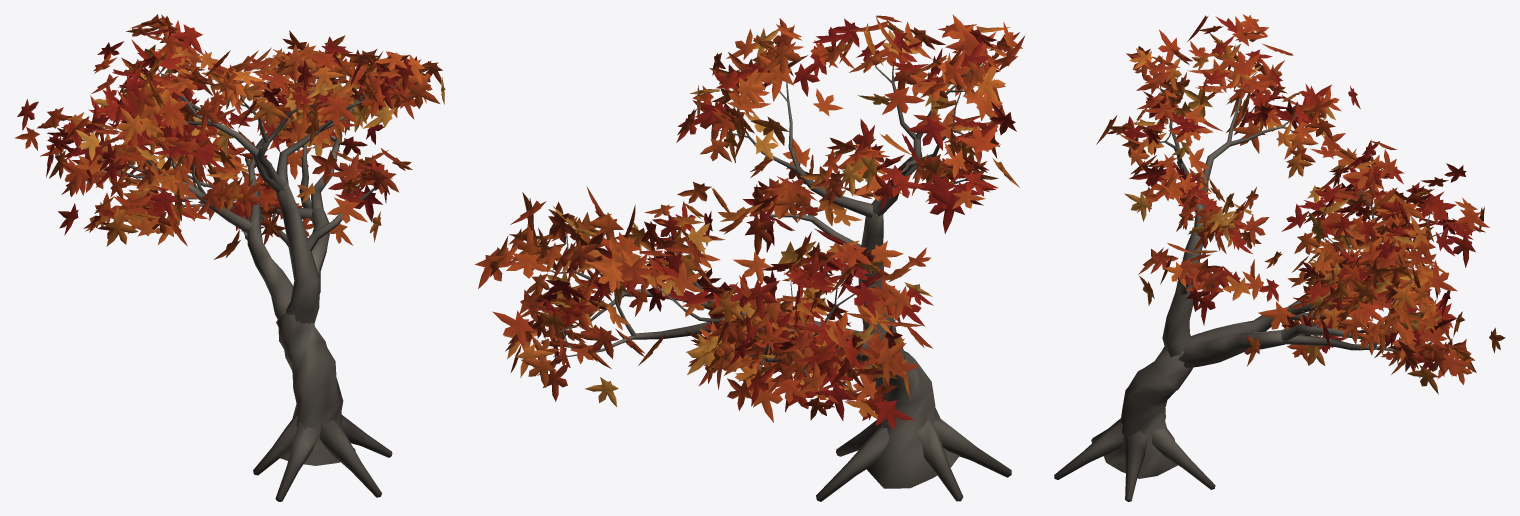
File: maple_tree.glb
3 renders of one model, left to right at view 1: azimuth 30°, elevation 25°; view 2: azimuth 150°, elevation 25°; view 3: azimuth 270°, elevation 25°, orthographic. The views are drawn at different scales.
Visible parts, largest first — view 1: MapleTree; view 2: MapleTree; view 3: MapleTree.
Part boxes in pixels (x1,y1,x2,y2): MapleTree: [14, 14, 445, 501]; MapleTree: [475, 14, 1024, 501]; MapleTree: [1054, 14, 1505, 501].
Size of the model in its own units: 5.9 by 6.54 by 6.49.
